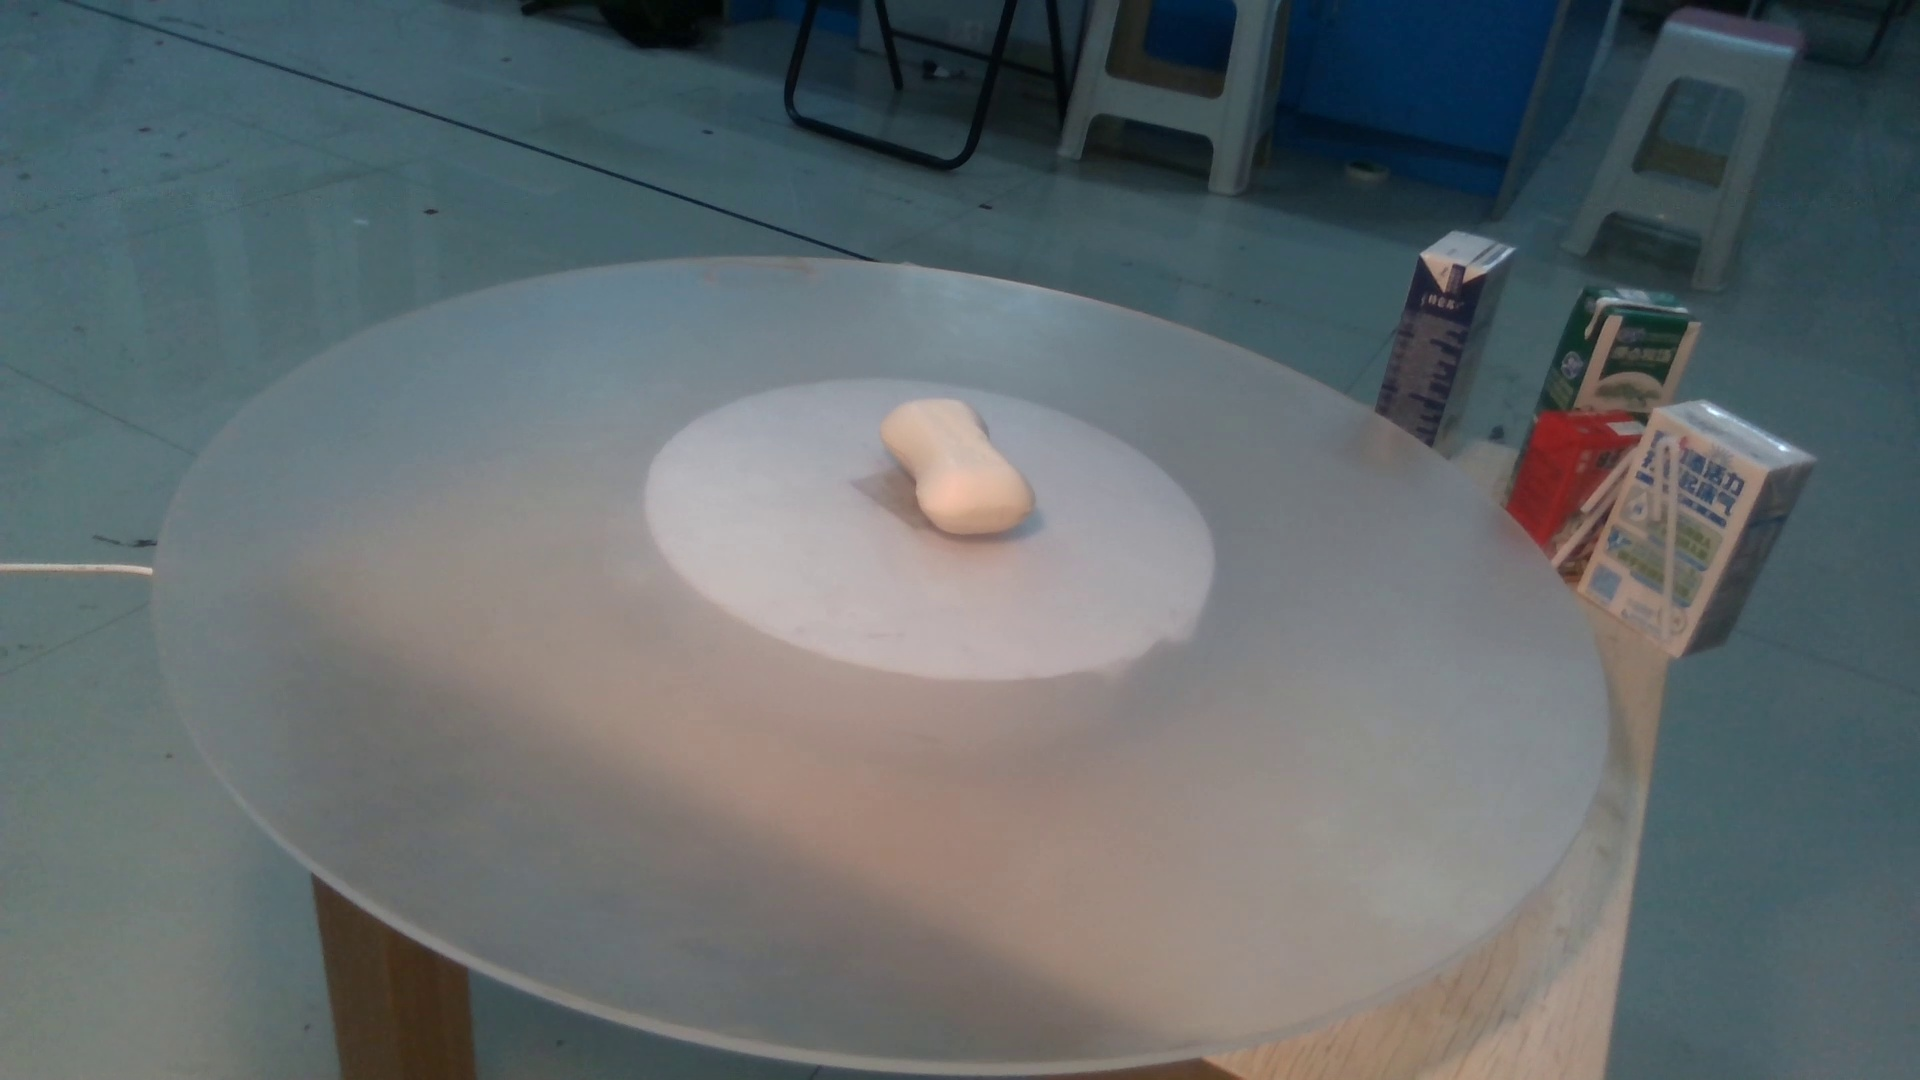CA003_1: (847, 390, 1077, 553)
